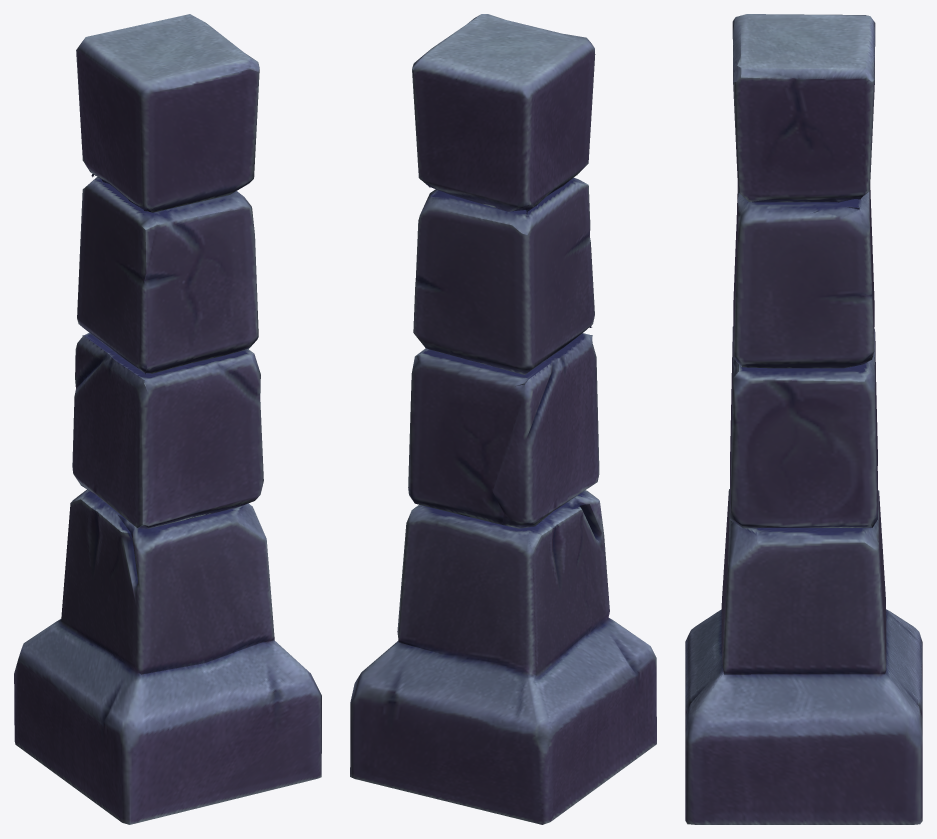
File: pillar.glb
3 renders of one model, left to right at view 1: azimuth 30°, elevation 25°; view 2: azimuth 150°, elevation 25°; view 3: azimuth 270°, elevation 25°, orthographic. The views are drawn at different scales.
Visible parts, largest first — view 1: Pillar_06; view 2: Pillar_06; view 3: Pillar_06.
Part boxes in pixels (x1,y1,x2,y2): Pillar_06: (14, 14, 321, 824); Pillar_06: (350, 14, 656, 824); Pillar_06: (685, 14, 922, 824).
Bounding box in the file's own units: 0.097 × 0.3312 × 0.097.
1 material, 1 textured.
